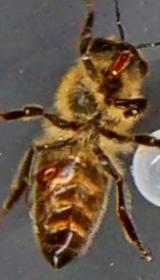varroa_mite: (31, 148, 60, 206)
